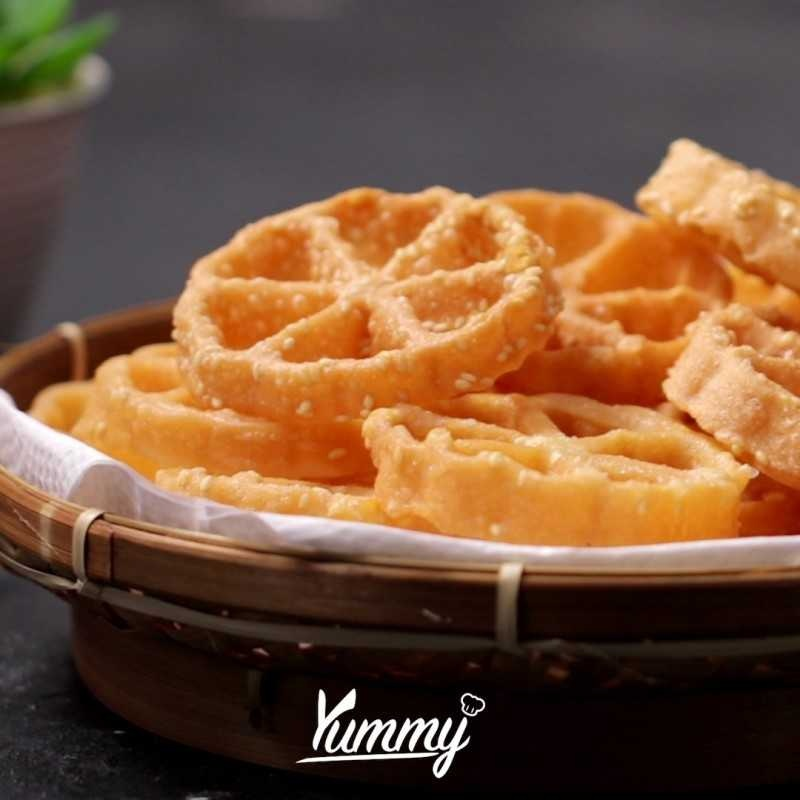kembang_goyang: (214, 155, 520, 435)
